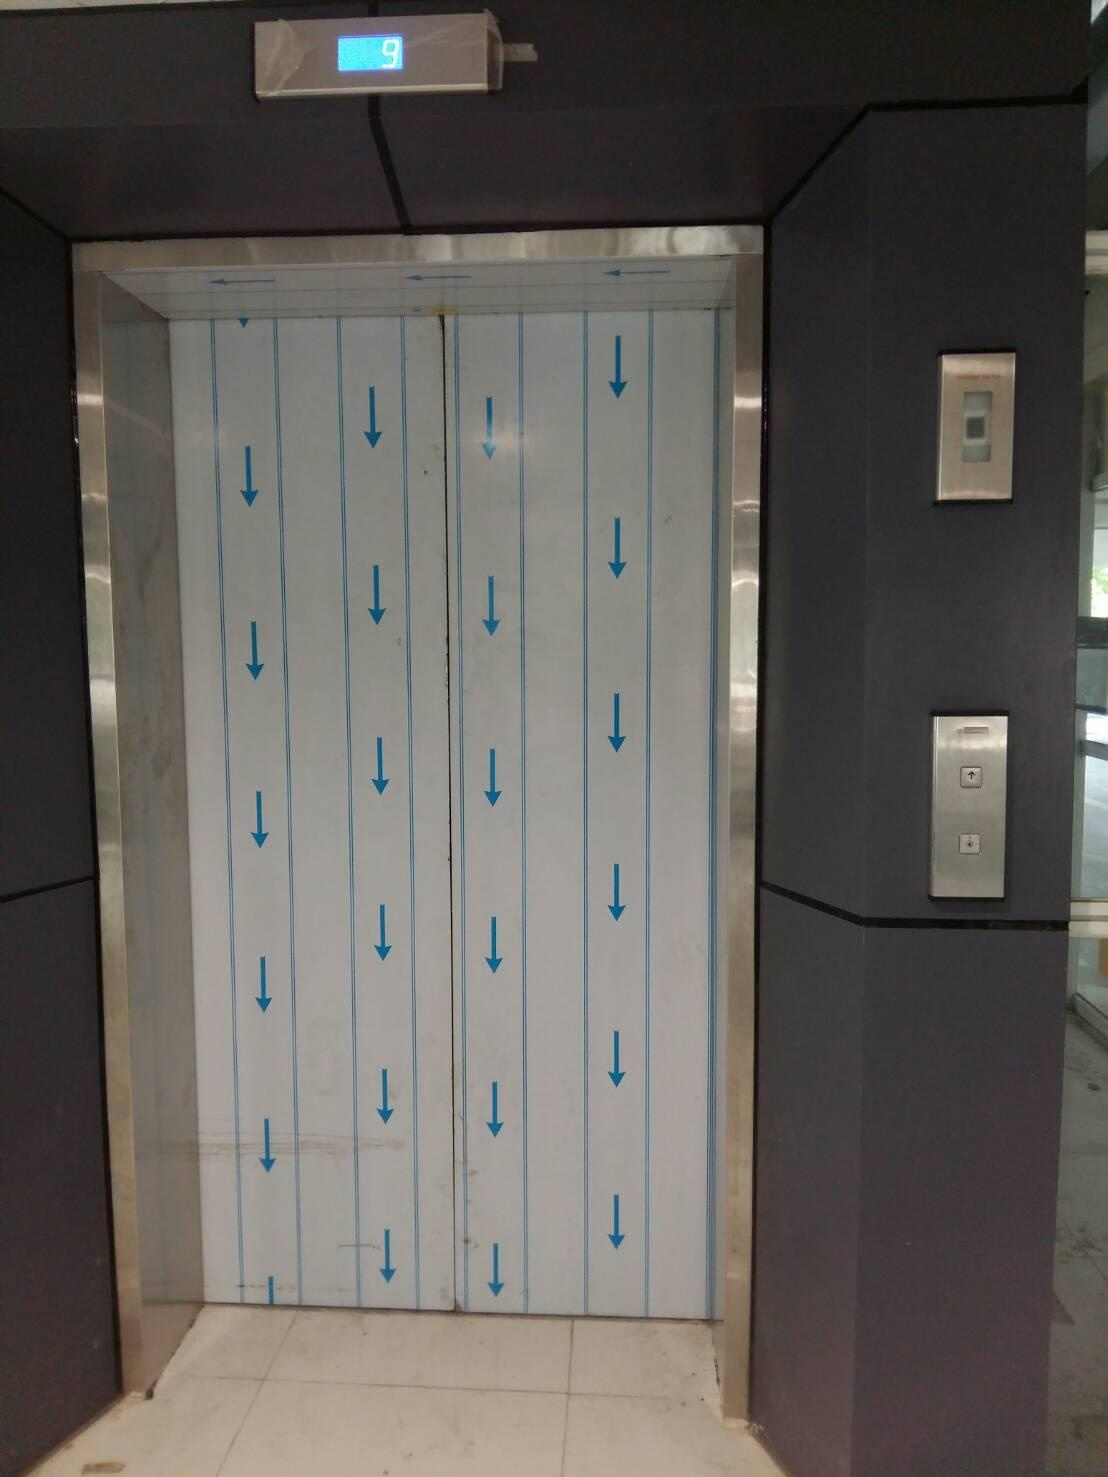keyhole: (957, 832, 981, 855)
led: (334, 33, 405, 76)
up: (959, 765, 983, 789)
